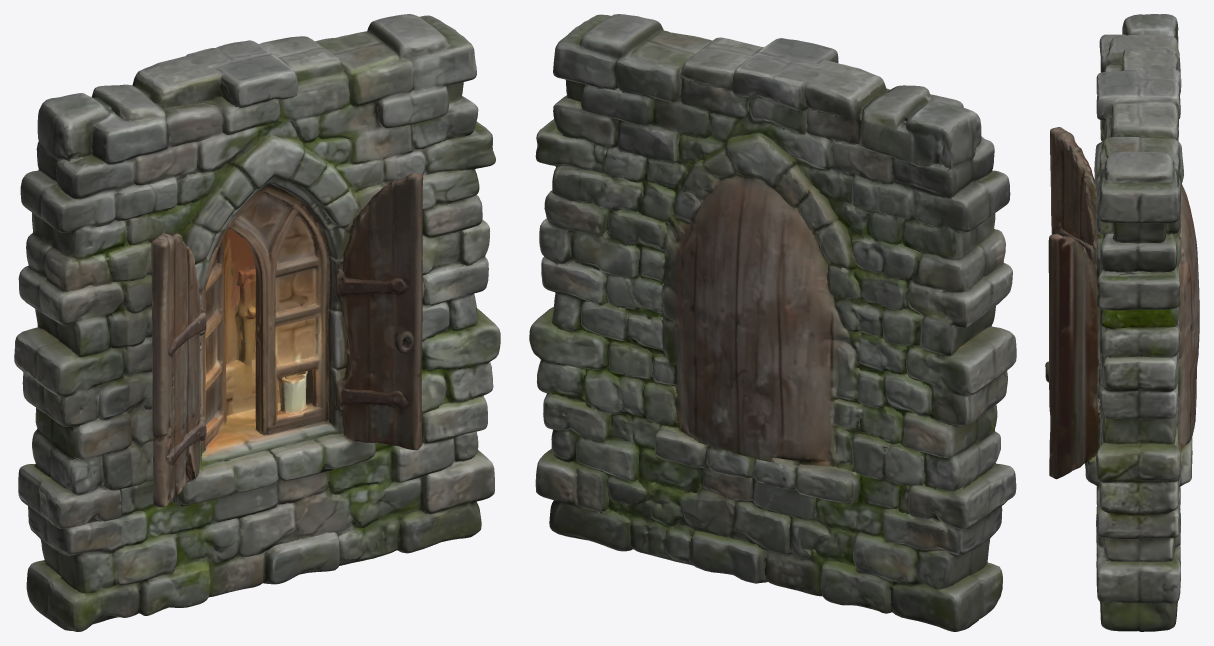
Rendered from wall-window.glb.
3 renders of one model, left to right at view 1: azimuth 30°, elevation 25°; view 2: azimuth 150°, elevation 25°; view 3: azimuth 270°, elevation 25°, orthographic. The views are drawn at different scales.
Parts seen in each view (by area): view 1: geometry_0; view 2: geometry_0; view 3: geometry_0.
Boxes of the visible parts, left/top/right/bottom form: geometry_0: left=14, top=14, right=500, bottom=631; geometry_0: left=529, top=14, right=1016, bottom=631; geometry_0: left=1045, top=14, right=1199, bottom=631.
Size of the model in its own units: 0.3783 by 0.42 by 0.1282.
Materials: 1 (1 with a texture image).
